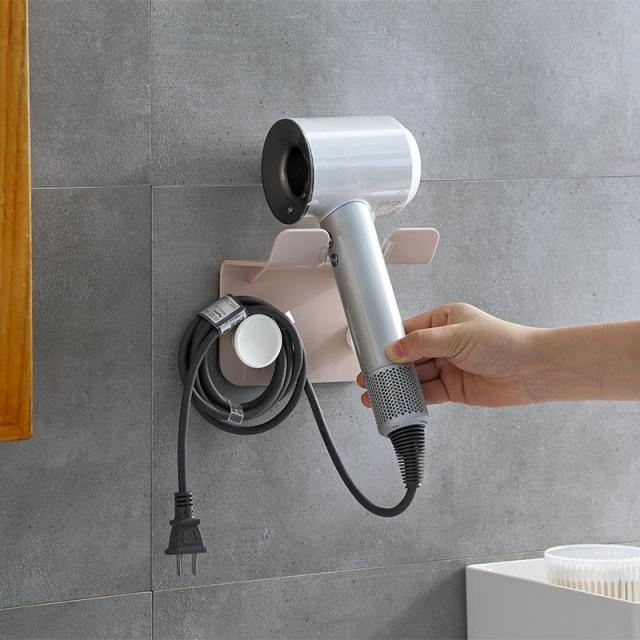dryer: (222, 90, 492, 554)
